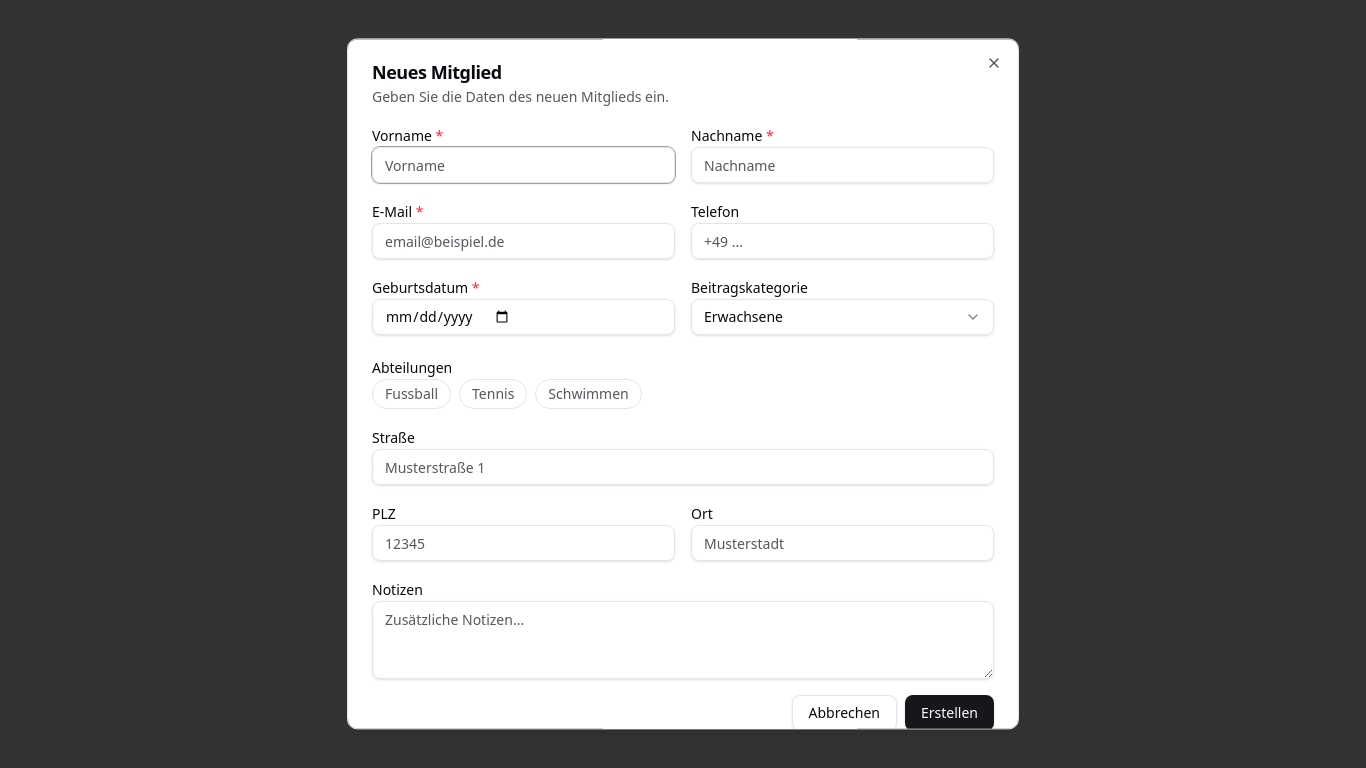
Test: MemberForm › shows validation errors on empty submit
Click the button "Erstellen" at {"x": 950, "y": 713}, box [905, 695, 994, 731]
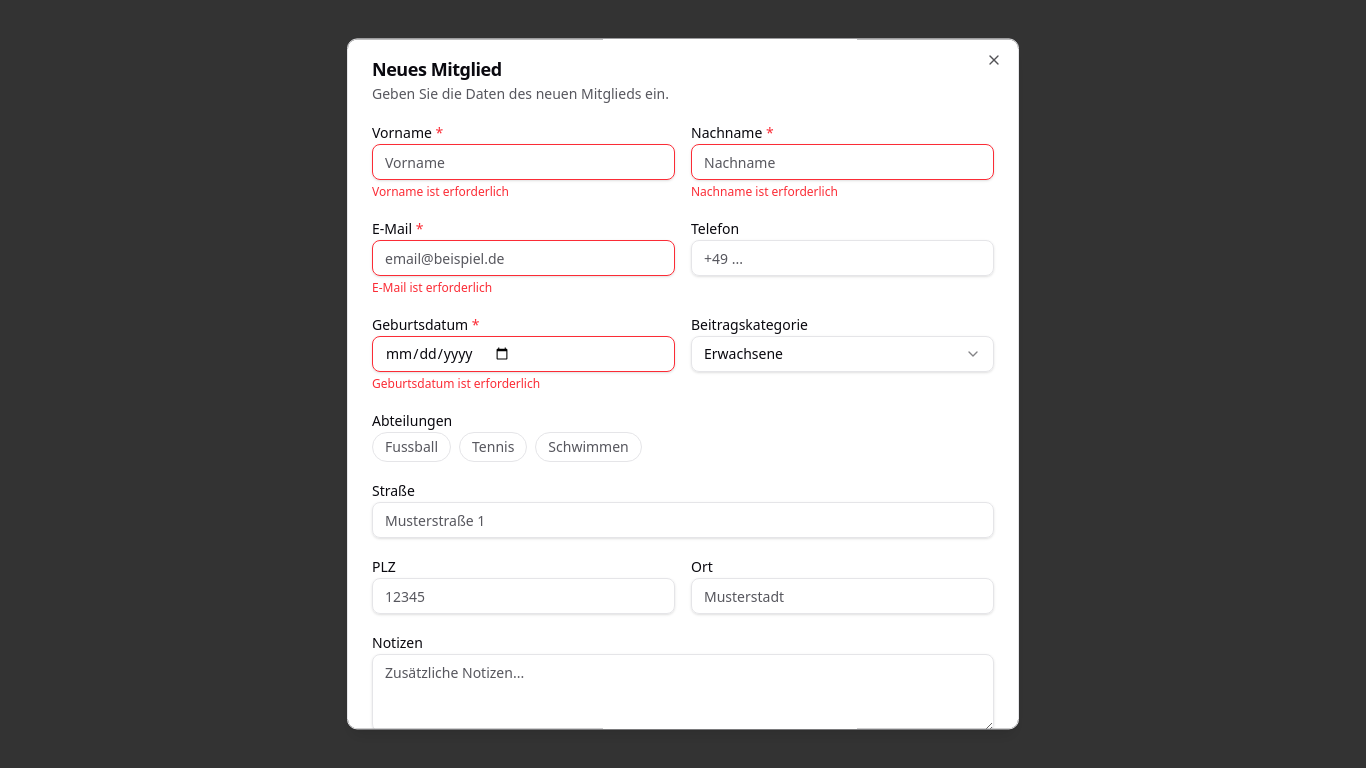
Result: the text "Vorname ist erforderlich" is shown at [372, 183, 509, 200]
Result: the text "Nachname ist erforderlich" is shown at [691, 183, 838, 200]
Result: the text "E-Mail ist erforderlich" is shown at [372, 279, 492, 296]
